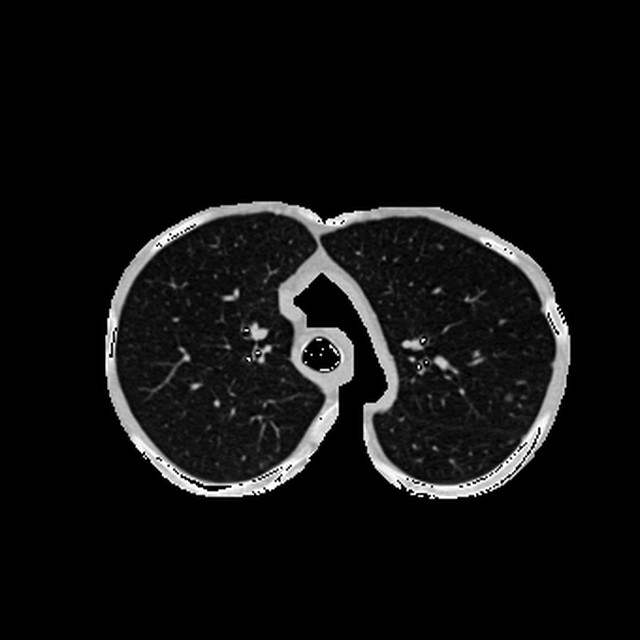PN: (504, 393, 512, 401)
